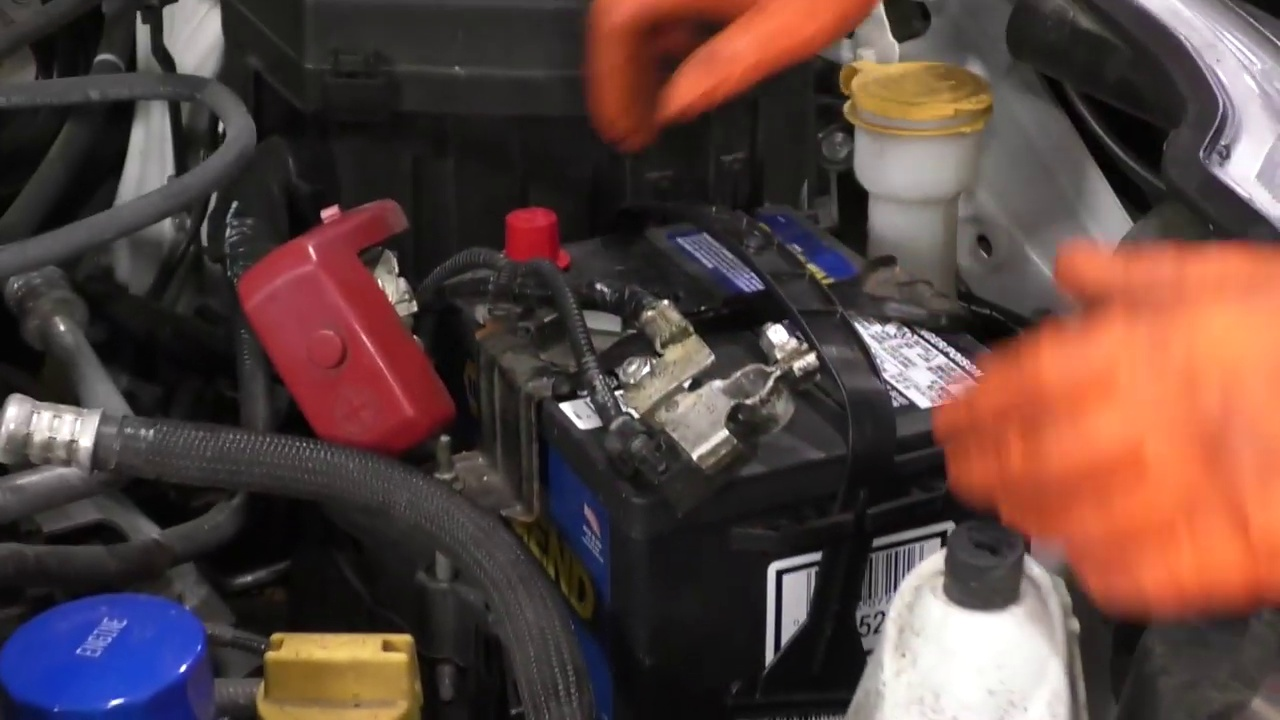battery: (428, 186, 989, 456)
